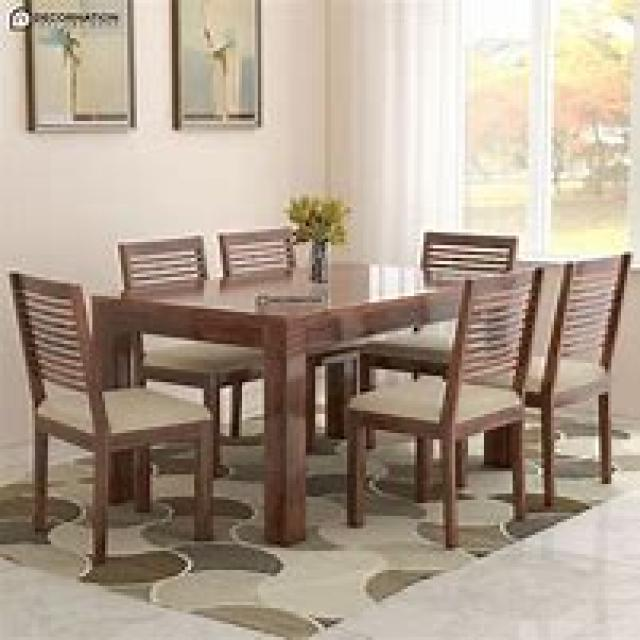chair: (7, 268, 214, 576), (344, 264, 541, 548), (115, 232, 264, 478), (213, 226, 369, 452)
table: (89, 258, 487, 544)
